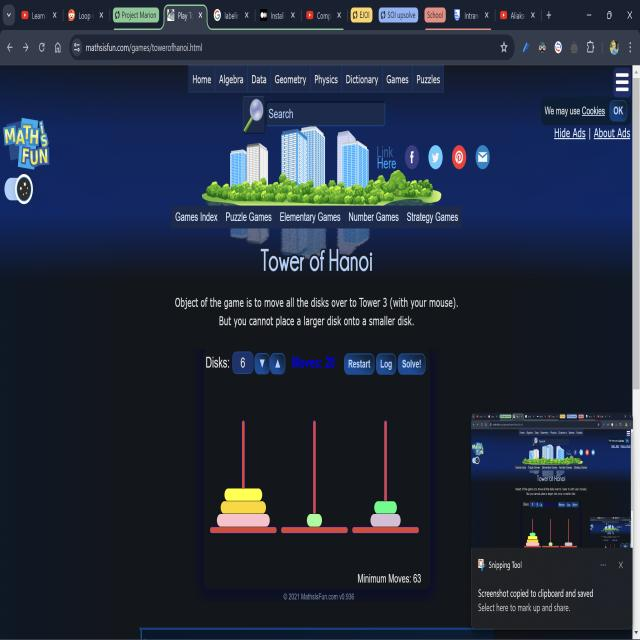disk1: (307, 514, 322, 526)
disk2: (374, 501, 397, 514)
disk3: (370, 514, 401, 526)
disk4: (225, 488, 262, 501)
disk5: (221, 501, 266, 514)
disk6: (217, 514, 270, 526)
